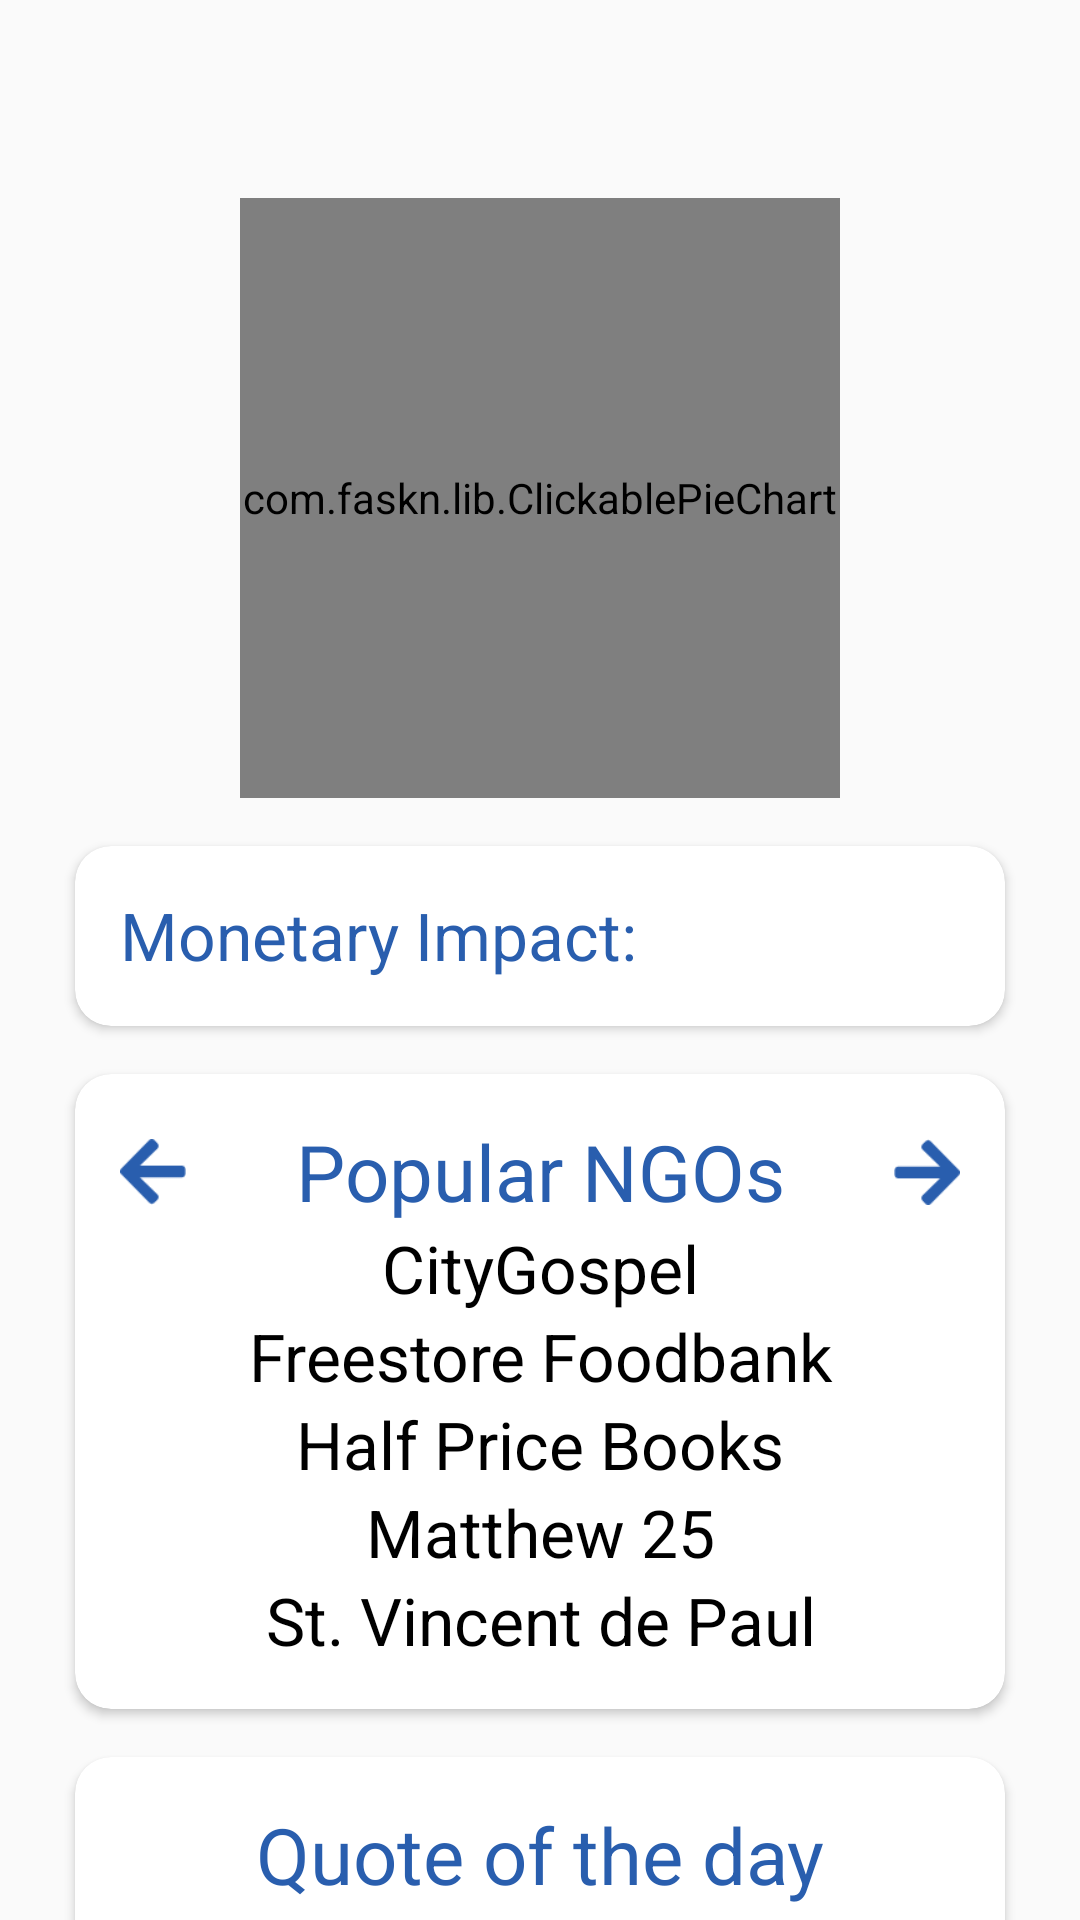

Screen size 1080w x 1920h. Icon name, then its box in pixels as (x1, y1, x2, y2):
swipe right: (894, 1139, 960, 1205)
